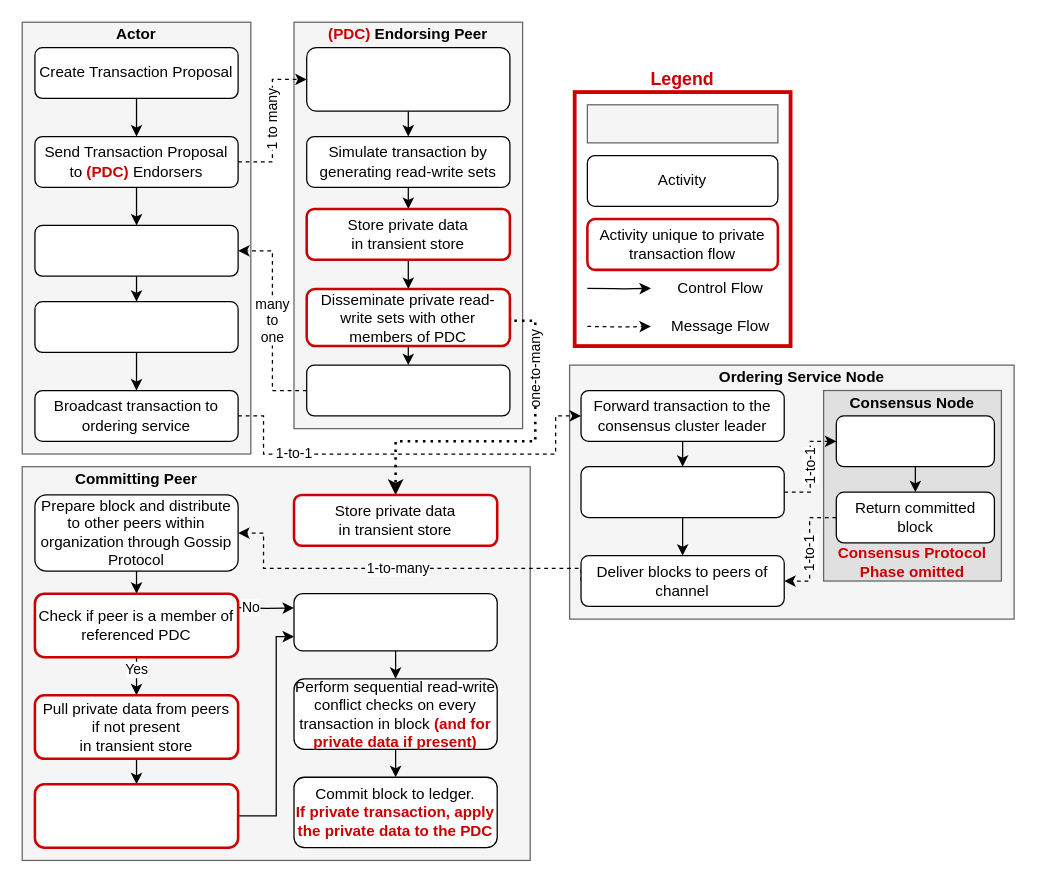
Image size: 1057x883. Some labels were removed from this diagram. The shapes that lost their labels are listed below. From the top down, each one's centre as x and y in pixels, then its label:
[407,78]: Perform Access Control to check if actor may send transaction proposal
[682,123]: Entity
[136,250]: Collect endorsements from all endorsers
[136,326]: Create Transaction
[407,390]: Return endorsement to actor without private data
[914,441]: Establish ordering of blocks
[682,491]: Cut blocks
[395,621]: Perform parallel validation on every transaction in block
[136,815]: Validate private data hash as recorded in public transaction
